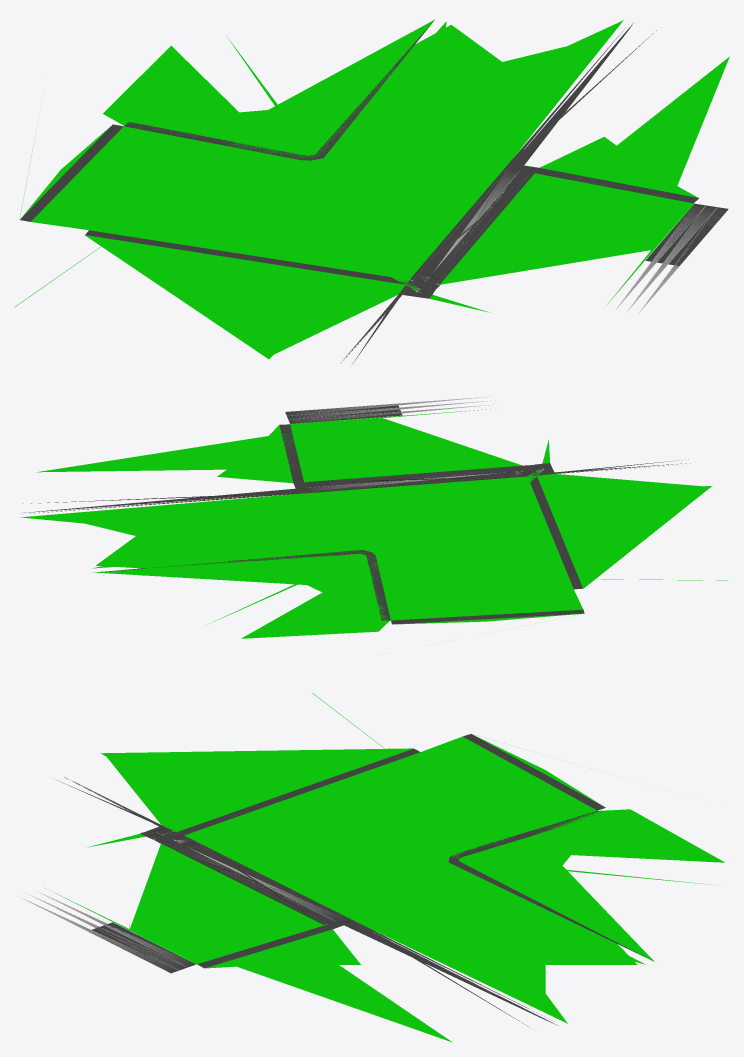
The picture shows the model from 3 angles, top to bottom: view 1: azimuth 30°, elevation 25°; view 2: azimuth 150°, elevation 25°; view 3: azimuth 270°, elevation 25°; orthographic projection. The views are drawn at different scales.
Size of the model in its own units: 270 by 2.3 by 233.
